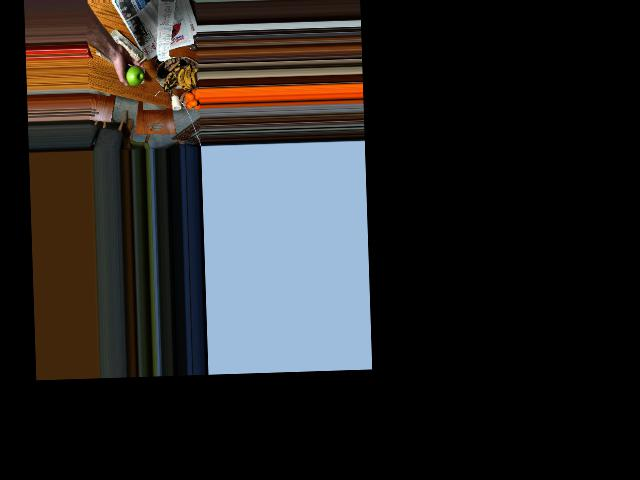apple: (122, 63, 143, 87)
